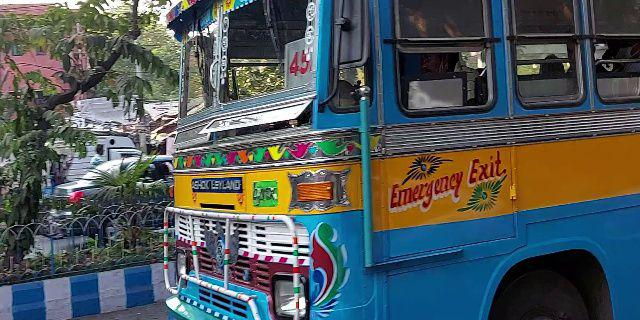Bus: (147, 1, 640, 320)
